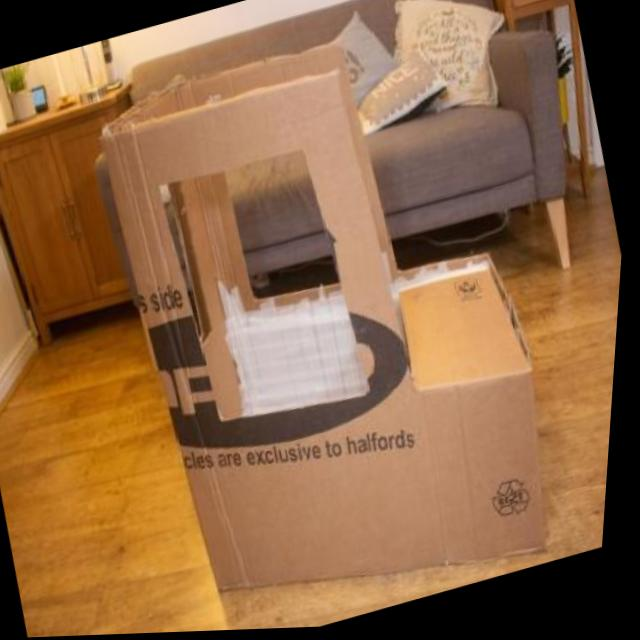box: (62, 0, 496, 480), (114, 238, 624, 636)
